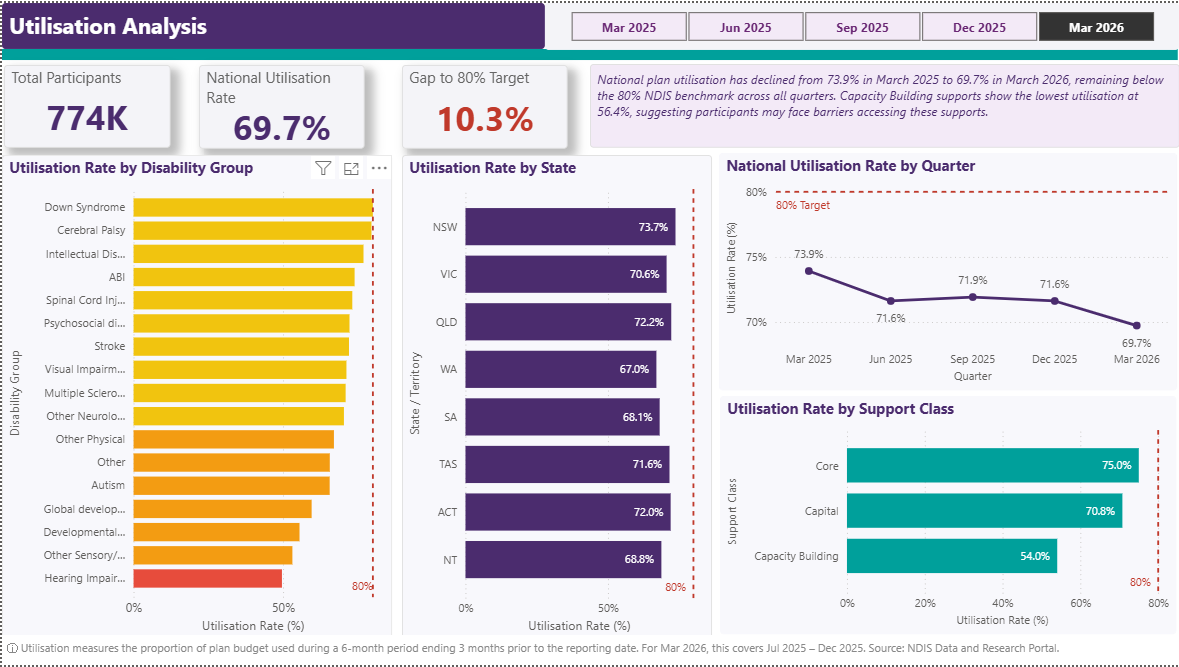

What the dashboard file says about the page in this screenshot:
{"tool":"powerbi","page":{"name":"Utilisation Analysis","canvas":[1280,720],"ordinal":2},"visuals":[{"type":"textbox","box":[0,0,590,50],"z":0},{"type":"shape","box":[0,50,1278,12],"z":1000},{"type":"card","title":"National Utilisation Rate","fields":{"Values":["Measures (2).P3 Utilisation Rate"]},"box":[213.8,67.8,180.5,90.8],"z":2000},{"type":"card","title":"Gap to 80% Target","fields":{"Values":["Measures (2).Utilisation Gap to 80%"]},"box":[434.5,67.8,180.5,90.8],"z":3000},{"type":"card","title":"Total Participants","fields":{"Values":["Measures (2).Total Participants"]},"box":[1.9,67,180.6,90.3],"z":4000},{"type":"lineChart","title":"National Utilisation Rate by Quarter","fields":{"Category":["DimDate.QuarterLabel"],"Y":["Measures (2).Utilisation Trend"]},"box":[779.3,163.2,497.7,258],"z":5000},{"type":"clusteredBarChart","title":"Utilisation Rate by State","fields":{"Y":["Measures (2).Utilisation by State"],"Category":["DimState.StateShortName"]},"box":[434.5,165.5,336.8,527.6],"z":6000},{"type":"clusteredBarChart","title":"Utilisation Rate by Disability Group","fields":{"Category":["FactUtilisation.DisabilityGroup"],"Y":["Measures (2).Utilisation by Disability"]},"box":[0,165.5,424.1,527.6],"z":7000},{"type":"slicer","fields":{"Values":["DimDate.QuarterLabel"]},"box":[590.1,0,688.9,50.6],"z":8000},{"type":"clusteredBarChart","title":"Utilisation Rate by Support Class","fields":{"Category":["FactUtilisation.SupportClass"],"Y":["Measures (2).Utilisation by Support Class"]},"box":[780.2,427.2,496.3,259.3],"z":9000},{"type":"textbox","box":[0,686.4,1279,33.3],"z":10000},{"type":"textbox","box":[639.1,66.7,641.4,90.8],"z":11000}]}

Visuals, with their boxes in screenshot pixels (x1, y1, x2, y2), scaled from the page's 1280x720 canvas onto the 1179x667 screenshot:
textbox: region(0, 0, 543, 46)
shape: region(0, 46, 1177, 57)
"National Utilisation Rate" card: region(197, 63, 363, 147)
"Gap to 80% Target" card: region(400, 63, 566, 147)
"Total Participants" card: region(2, 62, 168, 146)
"National Utilisation Rate by Quarter" lineChart: region(718, 151, 1176, 390)
"Utilisation Rate by State" clusteredBarChart: region(400, 153, 710, 642)
"Utilisation Rate by Disability Group" clusteredBarChart: region(0, 153, 391, 642)
slicer - DimDate.QuarterLabel: region(544, 0, 1178, 47)
"Utilisation Rate by Support Class" clusteredBarChart: region(719, 396, 1176, 636)
textbox: region(0, 636, 1178, 666)
textbox: region(589, 62, 1178, 146)
